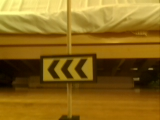left: (41, 55, 95, 83)
